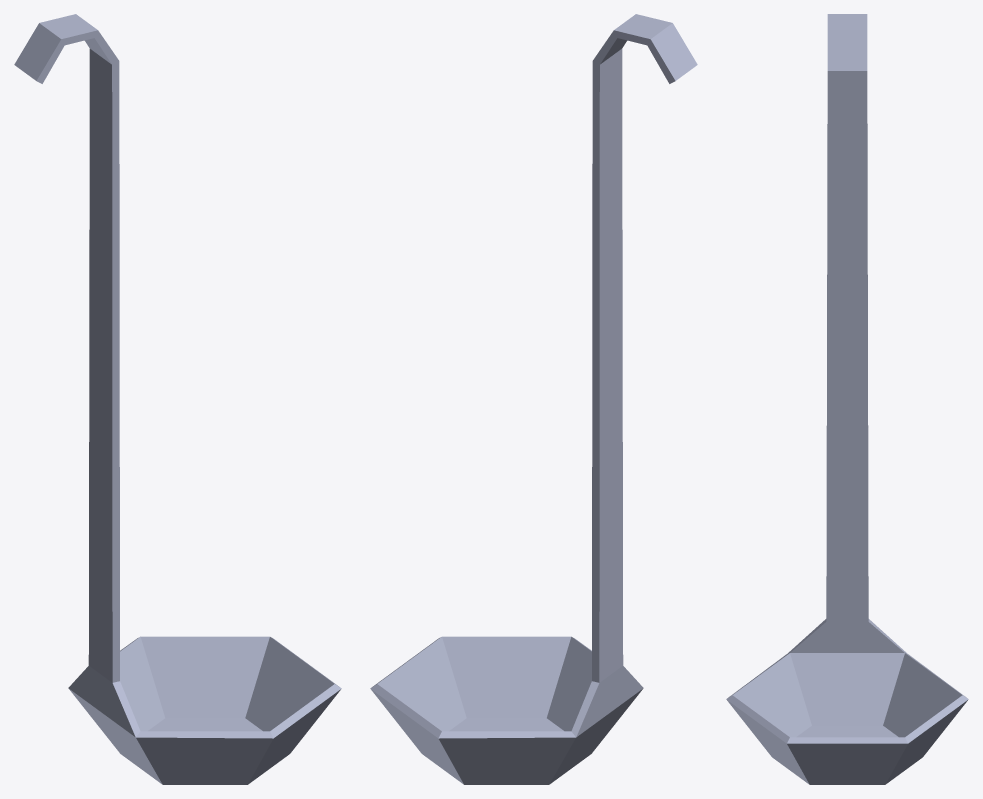
File: prop_ladle.fbx
3 views of the same model, side by side, from view 1: azimuth 30°, elevation 25°; view 2: azimuth 150°, elevation 25°; view 3: azimuth 270°, elevation 25° (orthographic). The views are drawn at different scales.
Parts seen in each view (by area): view 1: Ladle; view 2: Ladle; view 3: Ladle.
Boxes of the visible parts, bbox=[...] form: Ladle: bbox=[14, 14, 341, 784]; Ladle: bbox=[370, 14, 697, 784]; Ladle: bbox=[726, 14, 968, 784].
Size of the model in its own units: 0.1126 by 0.2898 by 0.0943.
